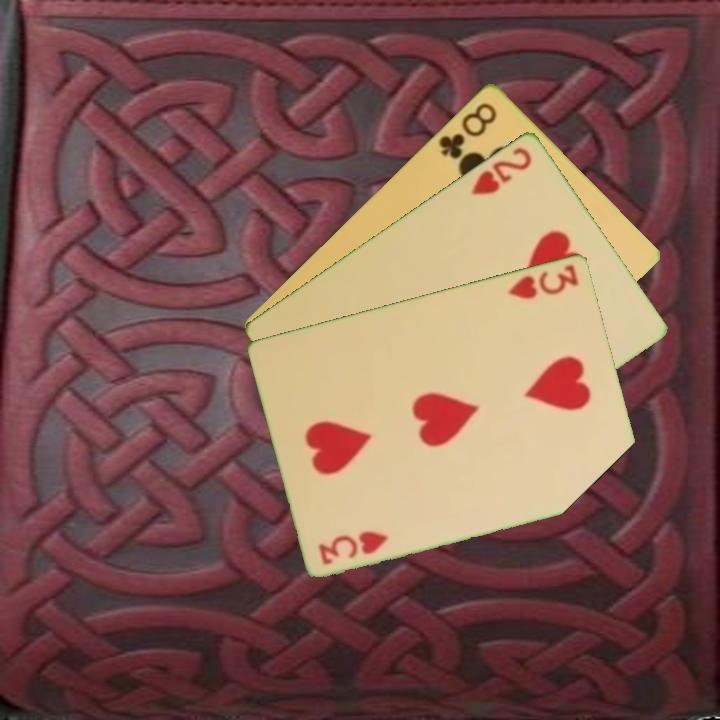2h: (467, 143, 535, 198)
3h: (505, 260, 582, 302), (315, 527, 392, 567)
8c: (435, 98, 500, 162)
